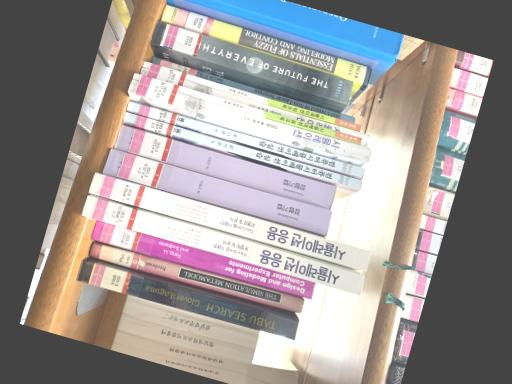book-spine: (81, 195, 364, 295), (87, 173, 369, 271), (127, 79, 371, 160), (102, 149, 331, 235), (113, 125, 336, 210), (121, 111, 362, 189), (125, 101, 364, 178), (140, 68, 369, 147), (76, 260, 299, 340), (160, 3, 371, 85), (91, 221, 315, 298), (149, 21, 353, 105), (131, 73, 360, 144), (88, 242, 303, 313), (140, 62, 361, 131), (151, 56, 354, 124), (210, 0, 404, 59)
